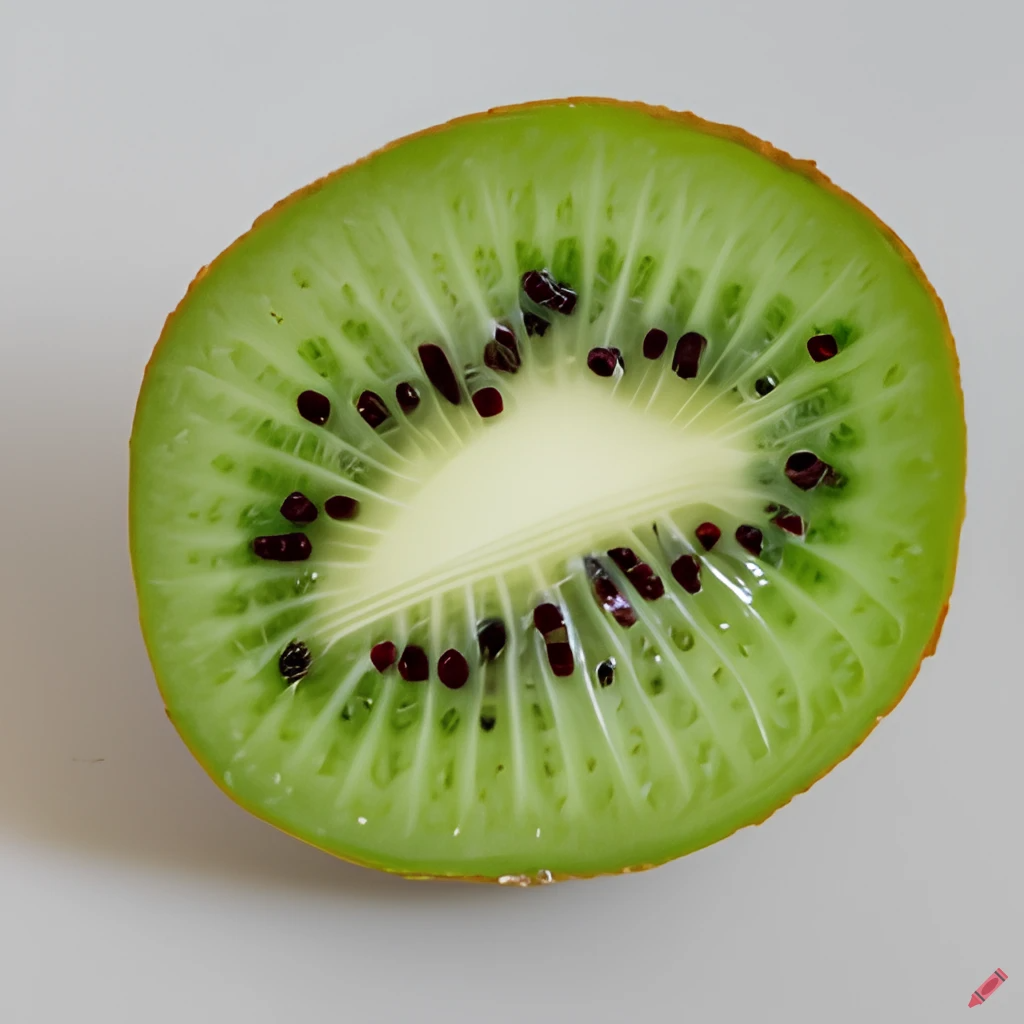Kiwi: (116, 53, 988, 914)
